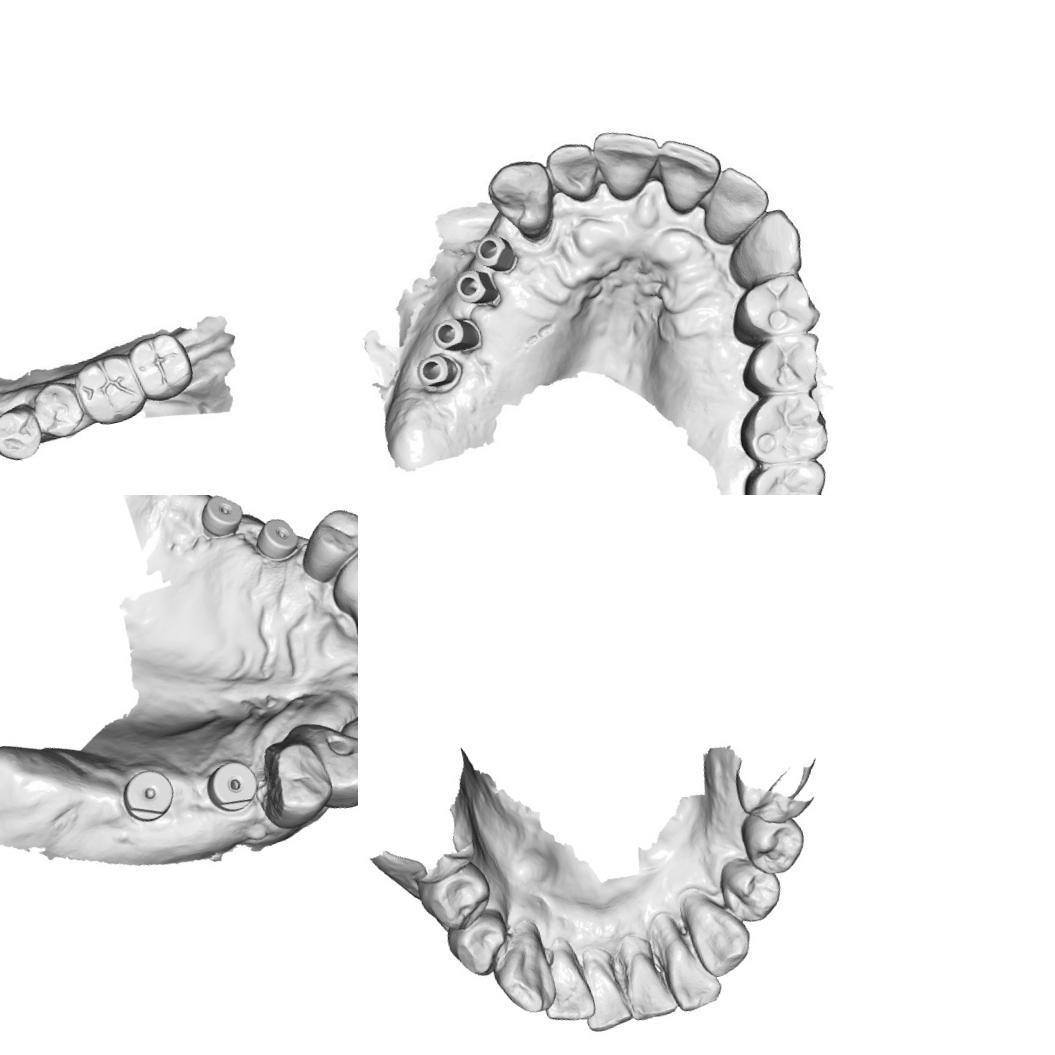canine: (713, 203, 814, 297), (478, 151, 562, 250), (484, 921, 560, 1022), (296, 704, 358, 816), (682, 890, 758, 980), (324, 533, 358, 610)
implant: (201, 757, 260, 818), (120, 766, 178, 826), (250, 512, 304, 567), (194, 495, 247, 541), (414, 350, 465, 394), (432, 314, 481, 359), (470, 229, 516, 274), (452, 266, 494, 306)
incisor: (656, 911, 726, 1013), (614, 936, 680, 1024), (572, 948, 638, 1035), (533, 944, 599, 1030), (654, 130, 722, 212), (594, 120, 664, 198), (700, 164, 764, 246), (542, 137, 606, 207)
molar: (730, 383, 831, 472), (68, 347, 150, 432), (127, 326, 197, 406), (734, 448, 837, 495)
premolar: (251, 735, 337, 836), (722, 268, 825, 350), (732, 330, 828, 400), (413, 857, 498, 935), (734, 802, 809, 881), (441, 906, 515, 983), (713, 850, 785, 928), (28, 376, 92, 444), (299, 501, 358, 574), (0, 400, 47, 468)
